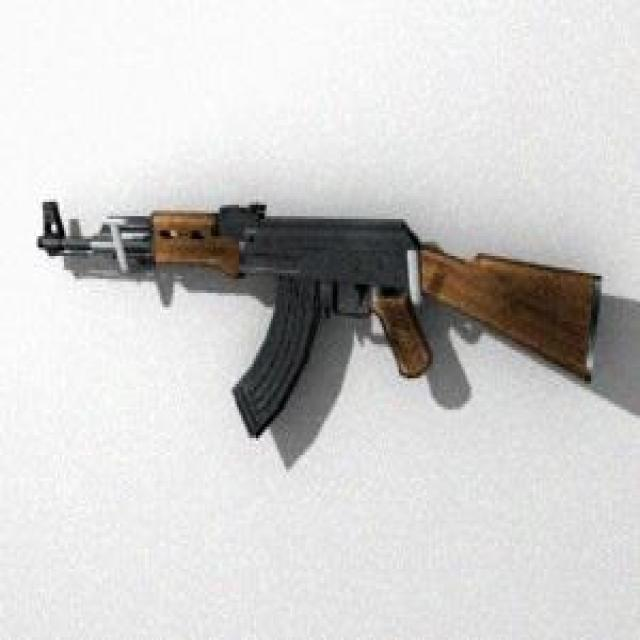Gun: (26, 165, 613, 458)
